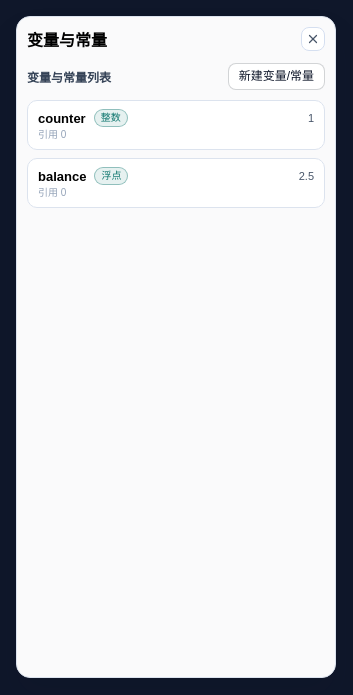
Test case: VariableManagerDrawer › shows a full create overlay and keeps the list order after save
Click the button with test id "variable-manager-new-button": (276, 77) [228,63,325,90]
(page scrolled)
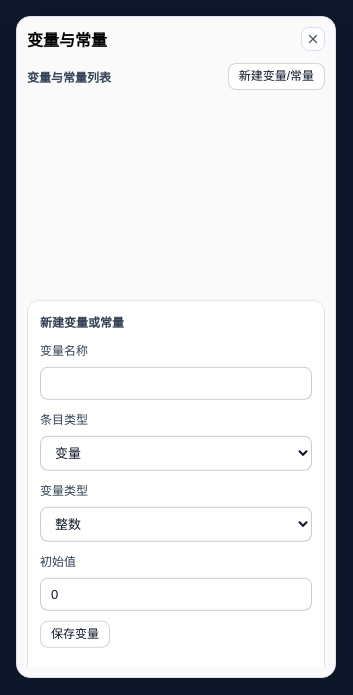
Expected: the element with test id "variable-manager-create-overlay" is shown, [27,300,325,667]
In the field with test id "variable-manager-name-input": (176, 384) [40,367,312,400], type "fresh"
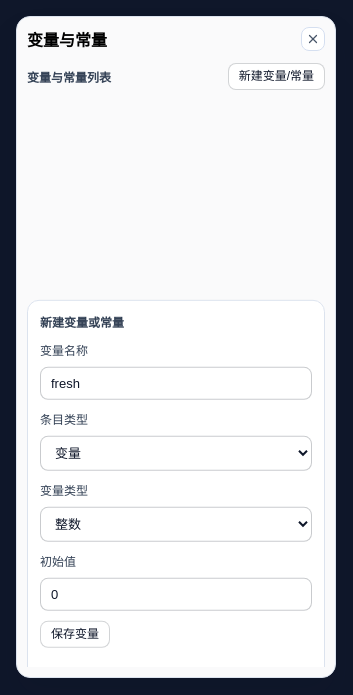
Replace the text in the field with test id "variable-manager-scalar-input" with "3": (176, 594) [40,578,312,611]
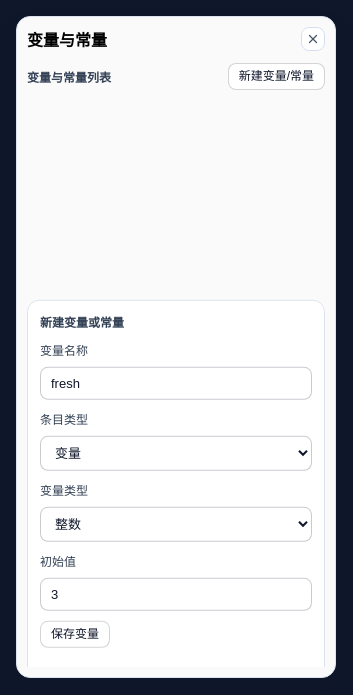
Click the button with test id "variable-manager-save-button": (75, 635) [40,621,110,648]
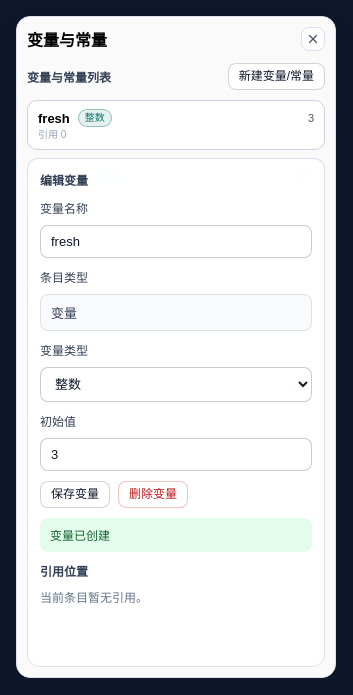
Expected: the element with test id "variable-manager-edit-overlay" is shown
Expected: the element with test id "variable-manager-edit-panel" is shown
